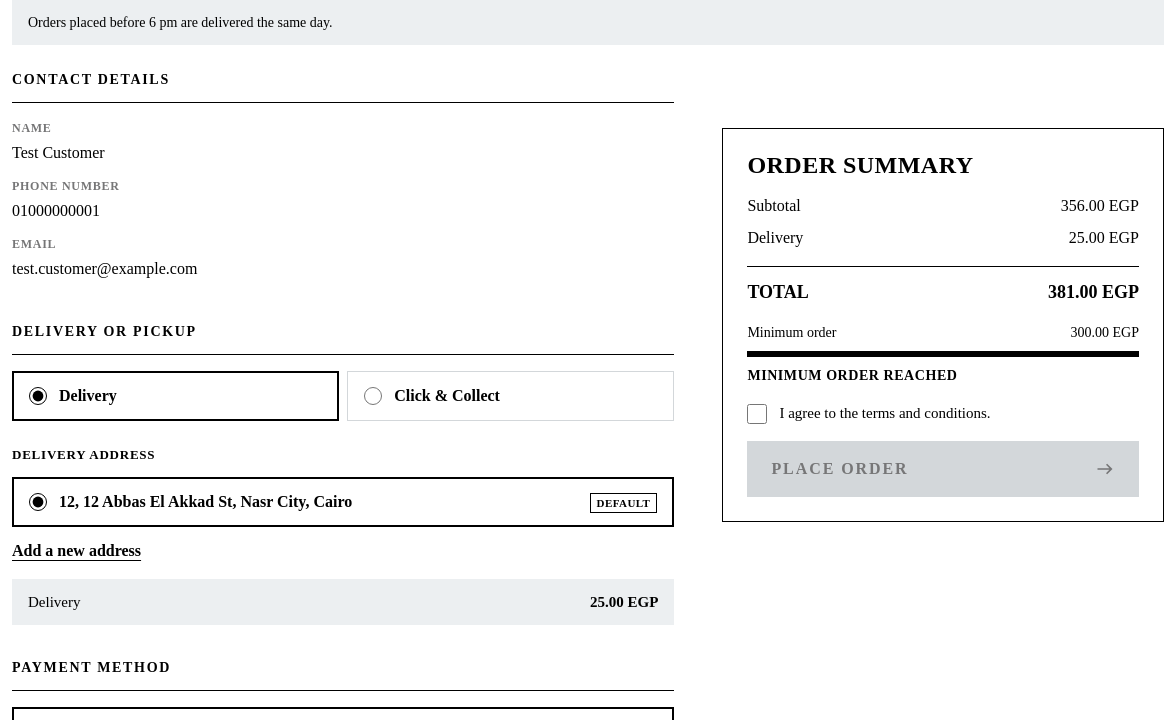
Test: CheckoutView: placing the order › is enabled only by canPlaceOrder plus the ticked terms
The width and height of the screenshot is (1164, 720).
Expected: the button with test id "place-order" is disabled, [747,441,1139,497]
What coordinates should you click on to do the following:
click the checkbox with test id "checkout-terms"
I would click on:
 (757, 414)
Its box is [747,404,767,424].
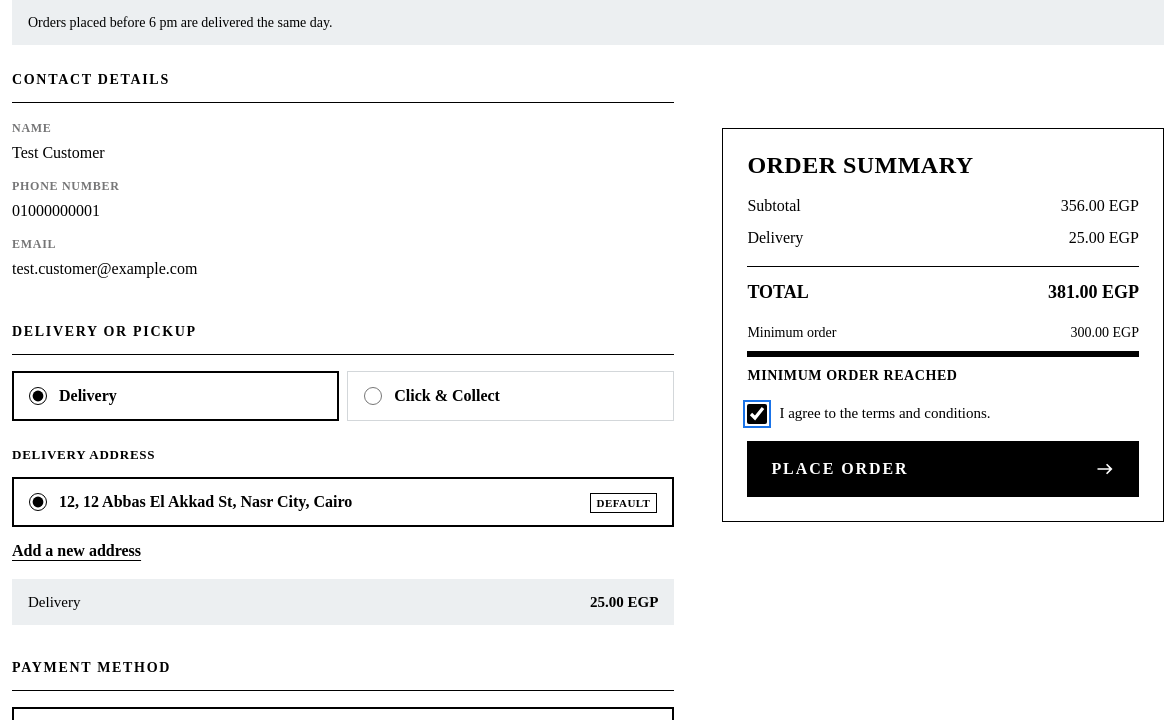
Expected: the button with test id "place-order" is enabled, [747,441,1139,497]
What coordinates should you click on to do the following:
click the checkbox with test id "checkout-terms"
I would click on:
 (757, 414)
Its box is [747,404,767,424].
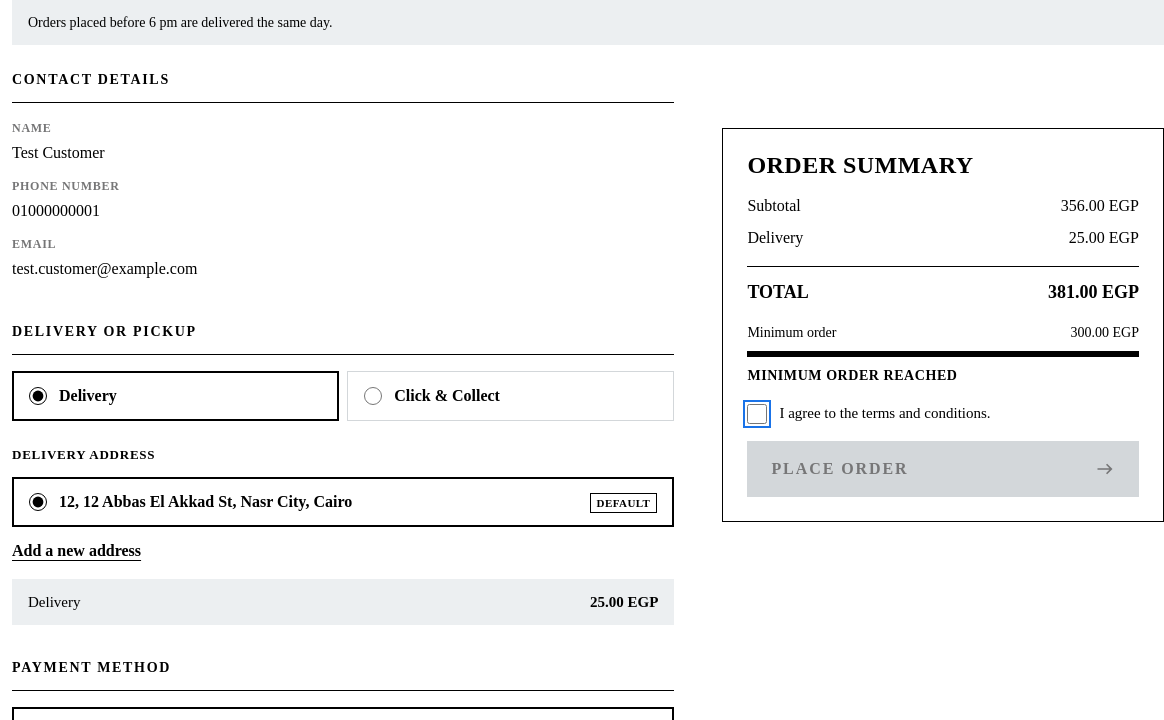
Expected: the button with test id "place-order" is disabled, [747,441,1139,497]
